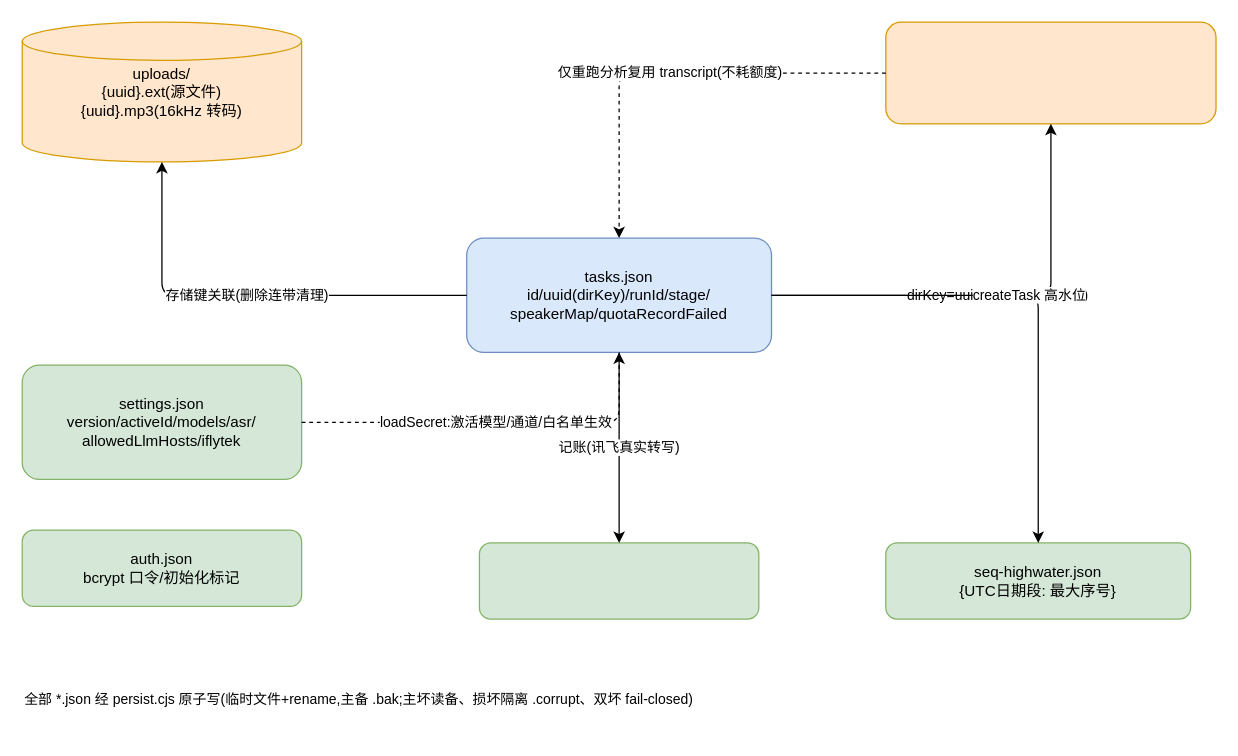
Image size: 1238x756. Some labels were removed from this diagram. Each missing label, with the centre of its shape:
"outputs/{dirKey}/ transcript.json / analysis.json / *.html" belongs at (x=1050, y=72).
"quota.json {本地日期: 转写秒数}" belongs at (x=618, y=580).
